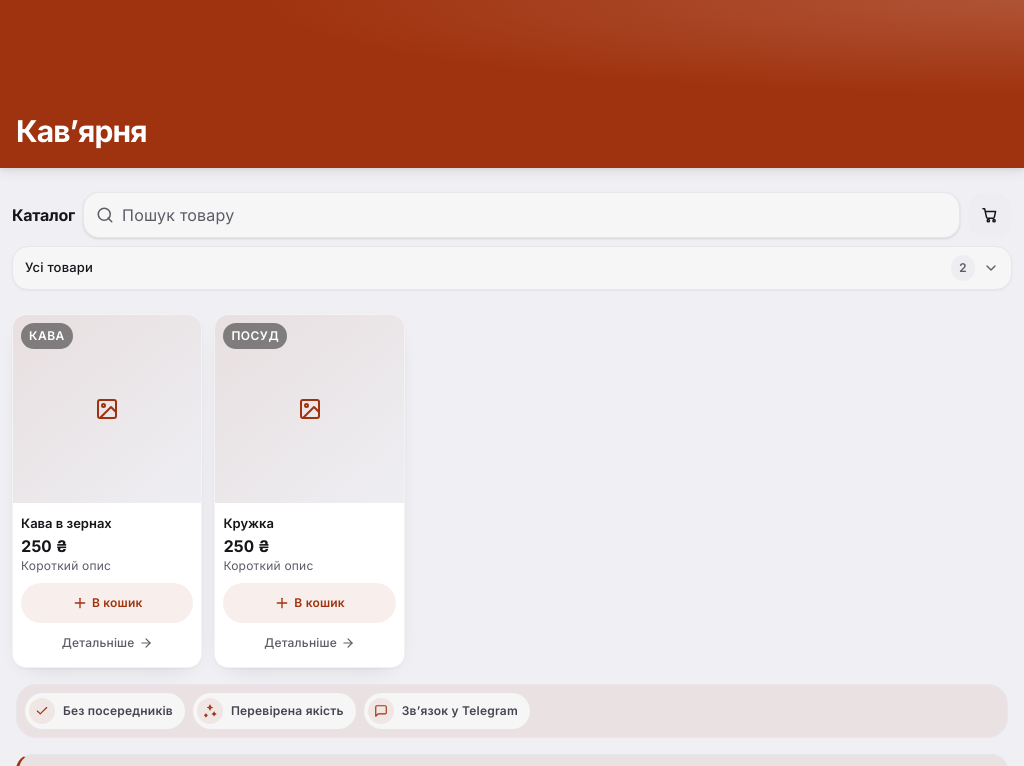
Scenario: ShopStore — кошик › плитка кладе товар у кошик, не відкриваючи картку
Click the button with aria-label "В кошик: Кава в зернах" at (107, 603), box [21,583,193,623]
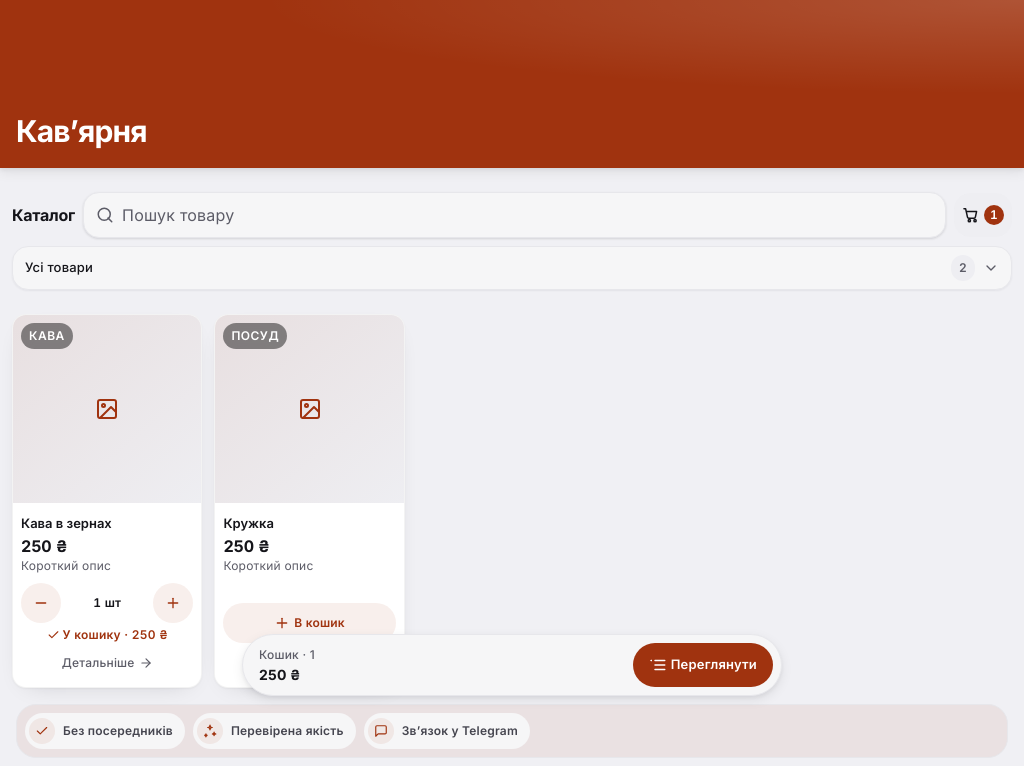
Now the button named "Кошик · 1" is shown, box [954,193,1012,237]
